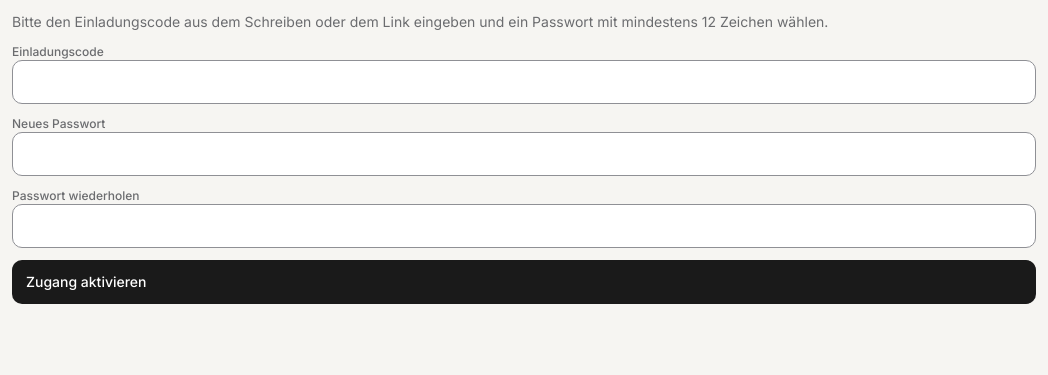
Test case: InvitationForm › validates abcdefghijkl before any request
Type "abcdefghijkl" into the field labelled "Einladungscode" at (524, 82), box top-left (12, 60), bottom-right (1036, 104)
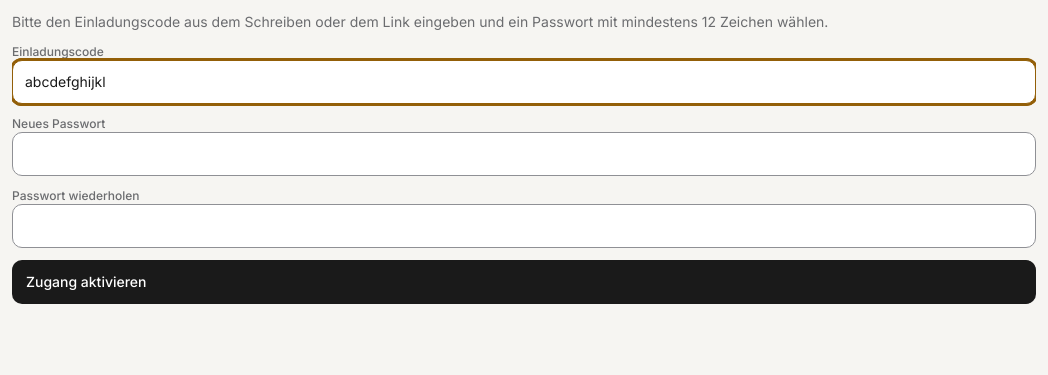
Type "kurz" into the password field labelled "Neues Passwort" at (524, 154), box top-left (12, 132), bottom-right (1036, 176)
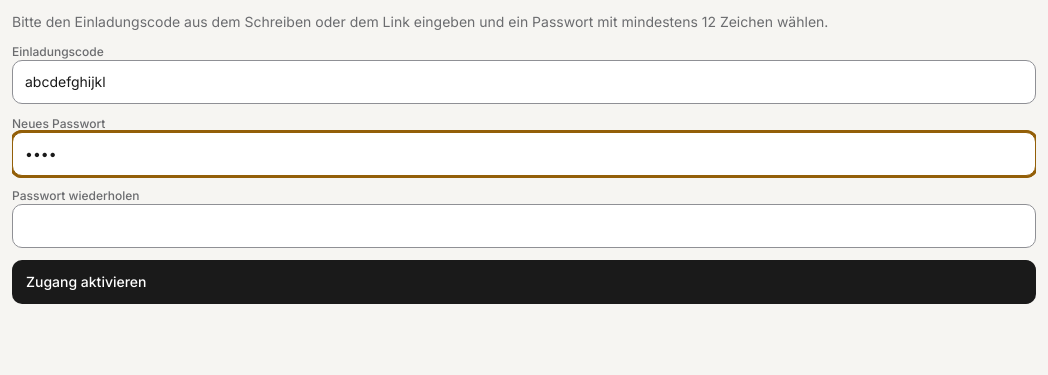
Type "kurz" into the password field labelled "Passwort wiederholen" at (524, 226), box top-left (12, 204), bottom-right (1036, 248)
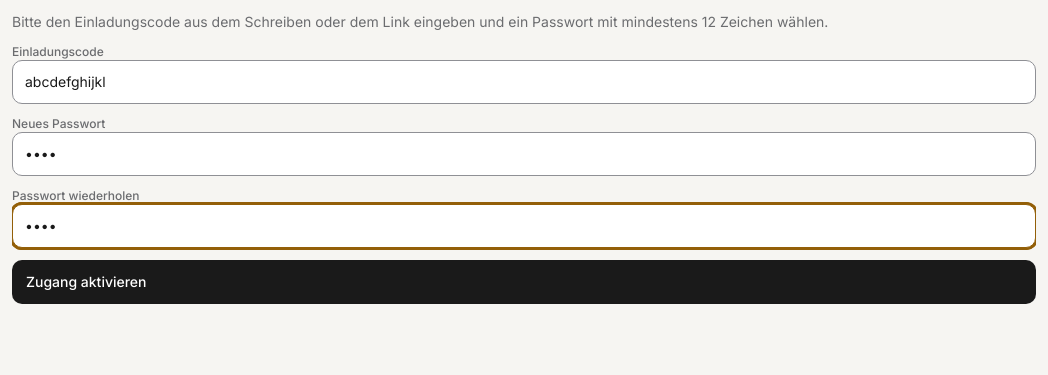
Click the button "Zugang aktivieren" at (86, 282), box top-left (12, 260), bottom-right (1036, 304)
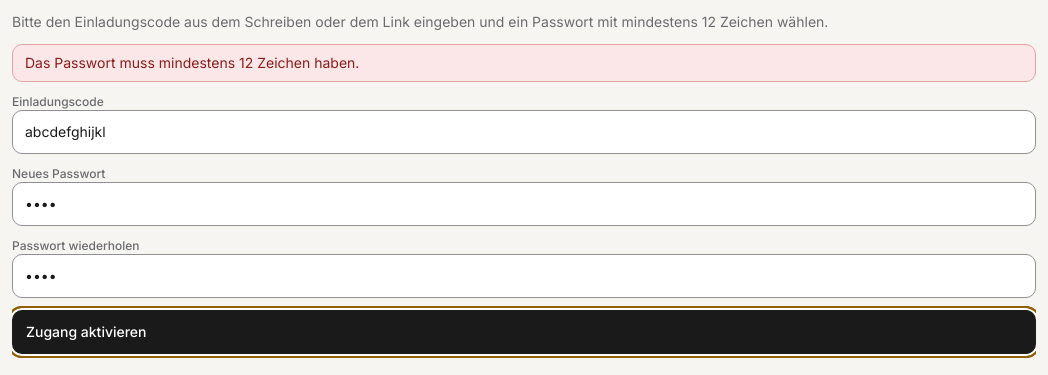
expect the message shows "mindestens 12 Zeichen": met, box top-left (25, 54), bottom-right (359, 71)
